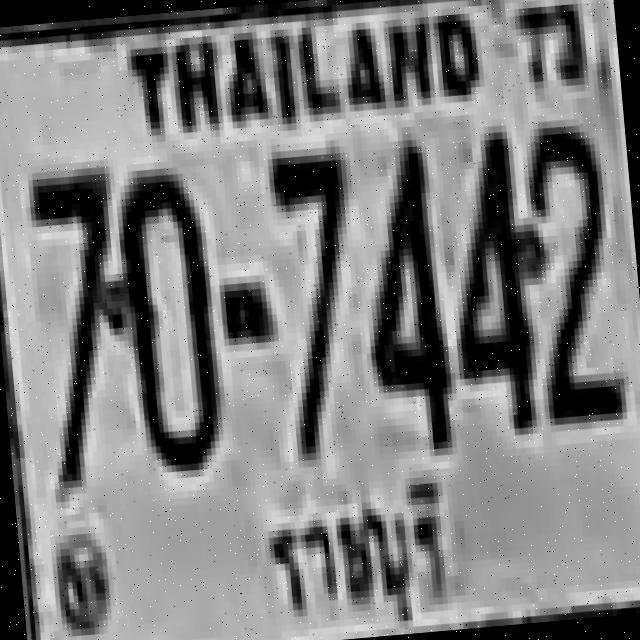0: (111, 159, 223, 468)
2: (515, 116, 622, 418), (514, 117, 616, 399)
4: (347, 132, 451, 448), (438, 124, 541, 432)
7: (22, 163, 131, 485), (266, 146, 366, 454), (266, 146, 362, 414), (266, 146, 356, 354)
Ratchaburi: (242, 462, 474, 640)
